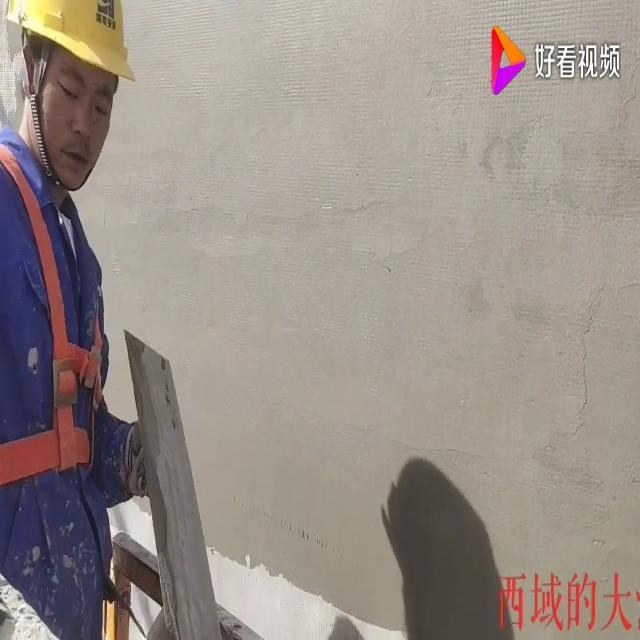Arnes_seguridad: (0, 127, 126, 502)
